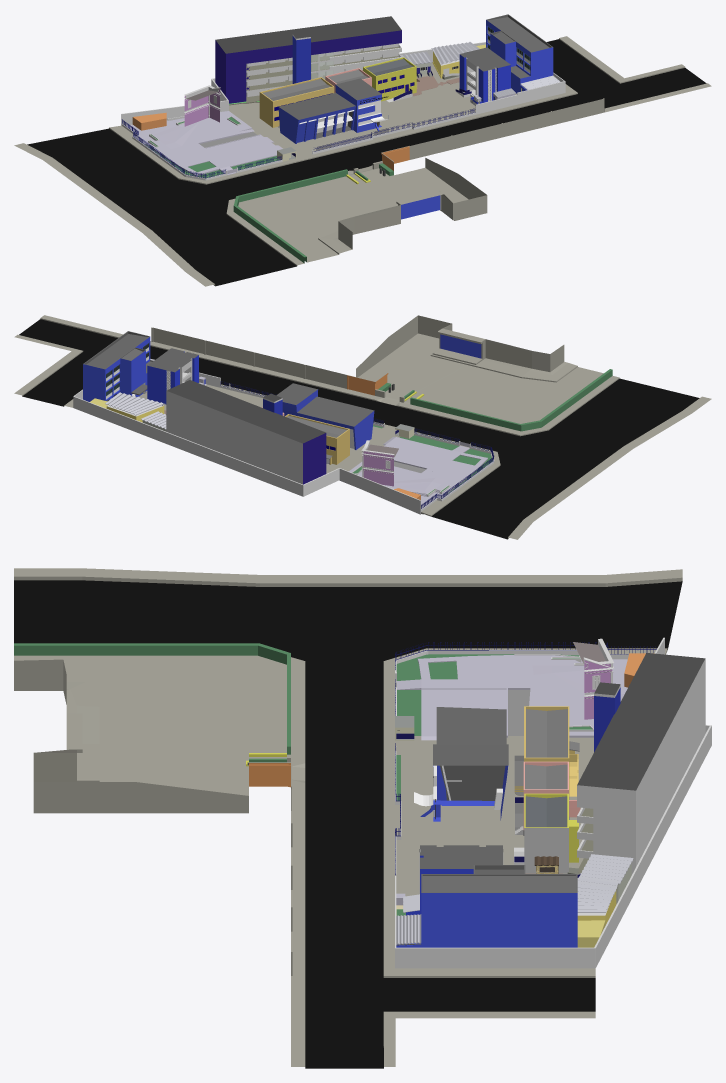
File: model_protocolo.glb
3 renders of one model, top to bottom at view 1: azimuth 30°, elevation 25°; view 2: azimuth 150°, elevation 25°; view 3: azimuth 270°, elevation 25°, orthographic. The views are drawn at different scales.
Visible parts, largest first — view 1: Plane.001, Bloco IK, Plane, Bloco B, Muro.001, Bloco C.005, Cube, Bloco J, Biblioteca, Bloco F, Estacionamento, Muro.002 (+6 smaller); view 2: Plane.001, Bloco IK, Muro.001, Bloco C.005, Bloco B, Plane, Bloco J, Cube, Estacionamento, Bloco A, Pequena Praça, Biblioteca (+3 smaller); view 3: Plane.001, Bloco IK, Plane, Bloco C.005, Muro.001, Bloco B, Cube, Bloco F, Pequena Praça, Biblioteca, Estacionamento, Bloco J (+5 smaller).
Boxes of the visible parts, box(x1,y1,x2,y2) form: Plane.001: box(14, 36, 711, 286); Bloco IK: box(215, 16, 401, 105); Plane: box(145, 62, 516, 177); Bloco B: box(278, 78, 381, 143); Muro.001: box(121, 42, 565, 180); Bloco C.005: box(486, 14, 553, 93); Cube: box(126, 111, 254, 155); Bloco J: box(456, 47, 510, 102); Biblioteca: box(259, 77, 334, 127); Bloco F: box(363, 57, 416, 101); Estacionamento: box(205, 134, 282, 166); Muro.002: box(122, 108, 475, 178); Plane.001: box(14, 315, 711, 539); Bloco IK: box(166, 380, 326, 484); Muro.001: box(73, 359, 494, 514); Bloco C.005: box(83, 331, 153, 401); Bloco B: box(276, 383, 374, 449); Plane: box(139, 384, 492, 493); Bloco J: box(147, 348, 198, 404); Cube: box(339, 462, 463, 508); Estacionamento: box(383, 437, 451, 469); Bloco A: box(361, 440, 398, 486); Pequena Praça: box(426, 445, 487, 479); Biblioteca: box(285, 414, 349, 464); Plane.001: box(14, 568, 682, 1068); Bloco IK: box(577, 653, 705, 874); Plane: box(395, 654, 616, 904); Bloco C.005: box(396, 865, 577, 947); Muro.001: box(395, 637, 711, 968); Bloco B: box(433, 707, 508, 821); Cube: box(514, 655, 627, 737); Bloco F: box(524, 793, 578, 873); Pequena Praça: box(396, 655, 514, 689); Biblioteca: box(524, 706, 569, 799); Estacionamento: box(421, 688, 507, 740); Bloco J: box(420, 845, 502, 914).
Size of the model in its own units: 514 by 54.08 by 305.
